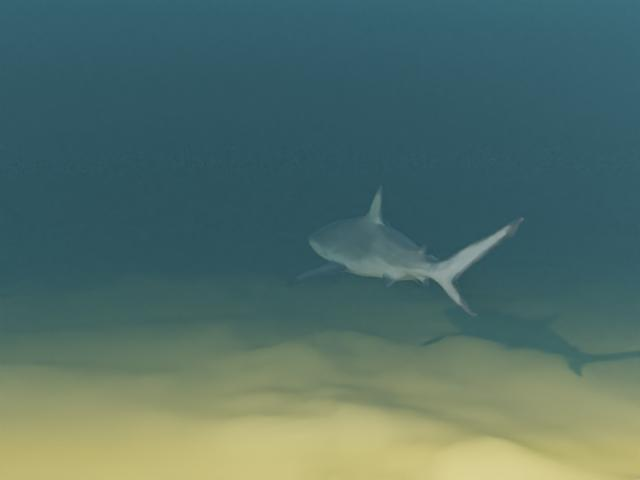Carribean Shark.001: (284, 185, 524, 316)
